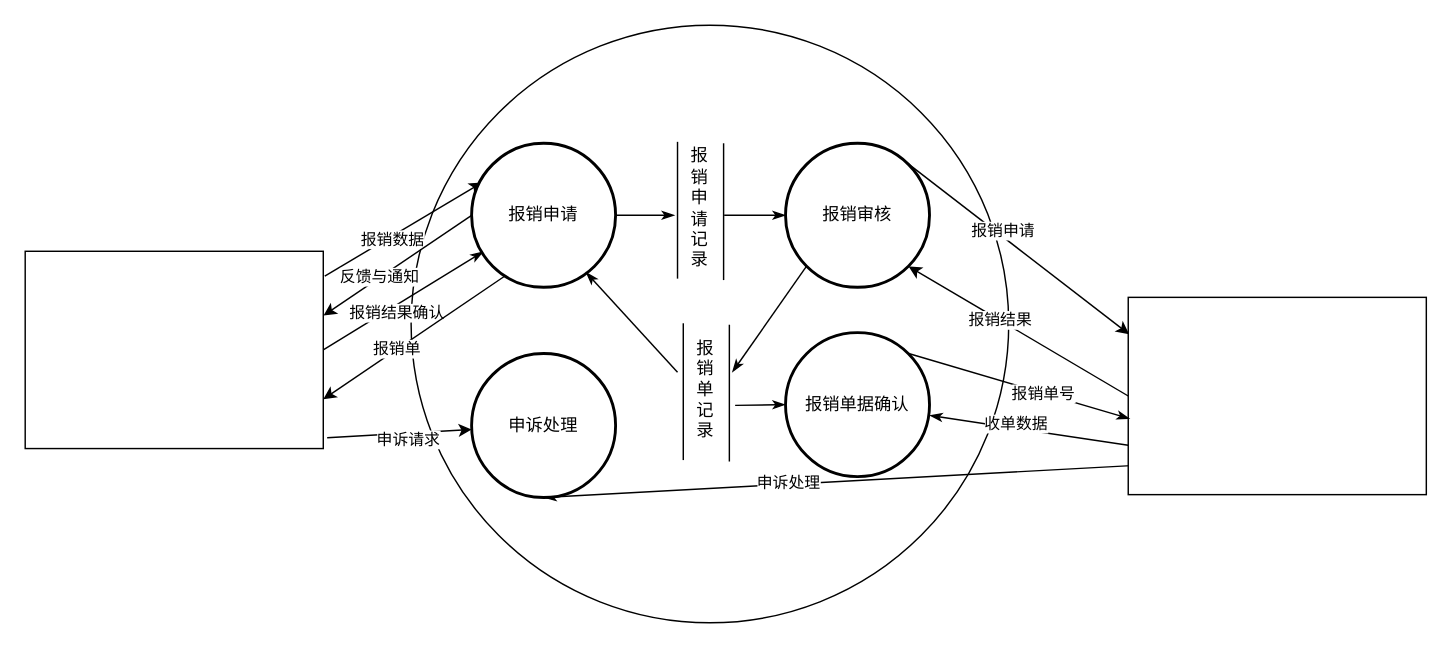
Image size: 1452x648. Some labels were removed from this diagram. Here are the shapes that lost their labels. From the top down, the centre of each, then its label:
At (173,349): "报销人".
At (1276,395): "审核员".
